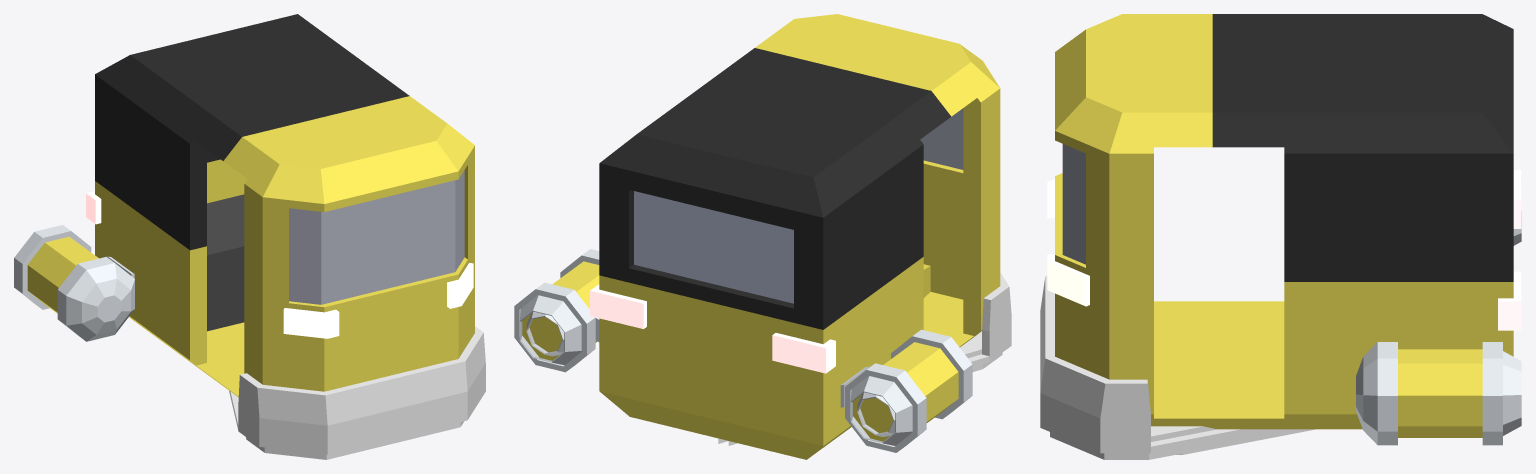
The model's file is scenekk.gltf.
The picture shows the model from 3 angles, left to right: view 1: azimuth 30°, elevation 25°; view 2: azimuth 150°, elevation 25°; view 3: azimuth 270°, elevation 25°; orthographic projection. The views are drawn at different scales.
Parts seen in each view (by area): view 1: Left Engine; view 2: Left Engine; view 3: Left Engine.
Boxes of the visible parts, box(x1,y1,x2,y2) form: Left Engine: box(14, 14, 485, 459); Left Engine: box(514, 14, 1011, 459); Left Engine: box(1040, 14, 1521, 459).
Bounding box in the file's own units: 2.64 × 1.9 × 2.39.
